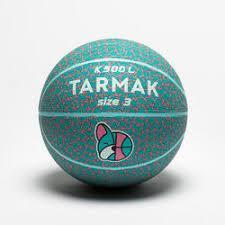ball: (38, 40, 187, 187)
